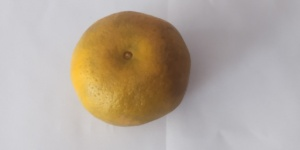BAD: (69, 10, 193, 130)
